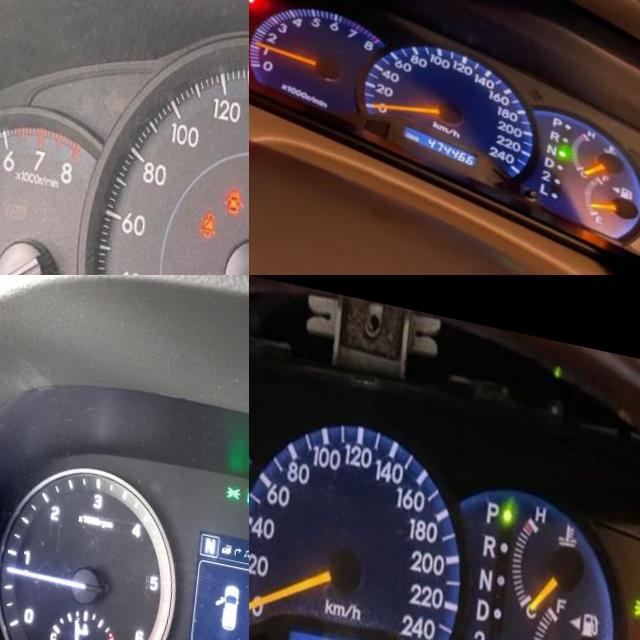Seat Belt: (204, 195, 225, 234)
SideLamp: (231, 470, 246, 486)
